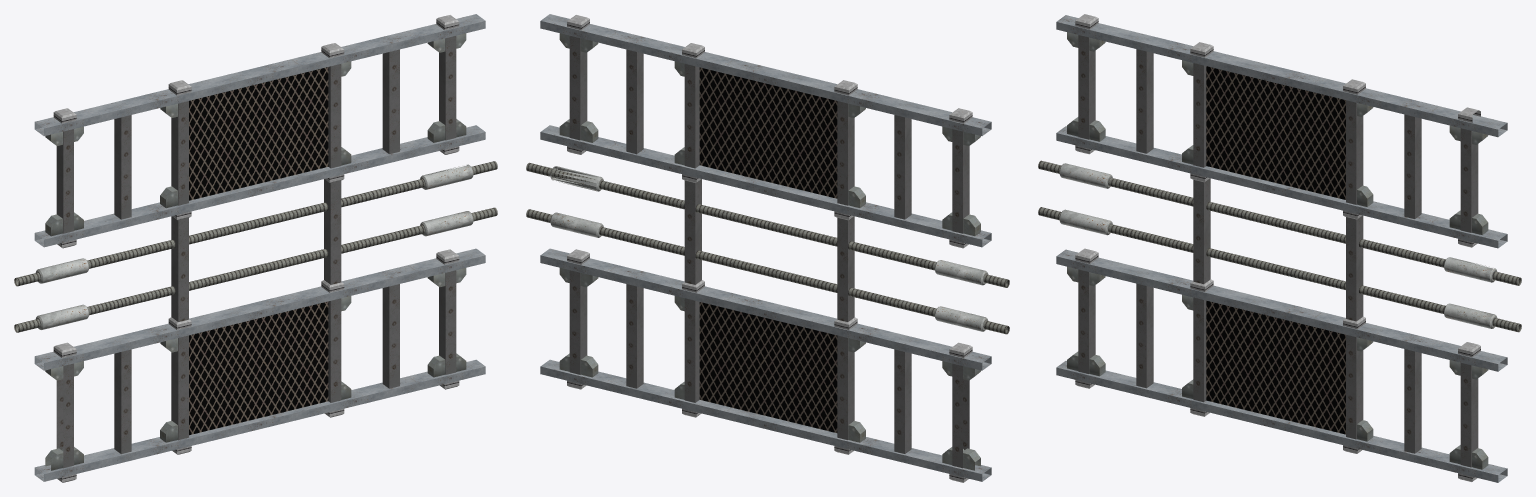
The model's file is Ob_ScafHorizMix_RC.fbx.
3 views of the same model, side by side, from view 1: azimuth 30°, elevation 25°; view 2: azimuth 150°, elevation 25°; view 3: azimuth 330°, elevation 25° (orthographic).
Parts seen in each view (by area): view 1: Ob_ScafHorizMix_RC; view 2: Ob_ScafHorizMix_RC; view 3: Ob_ScafHorizMix_RC.
Part boxes in pixels (x1,y1,x2,y2): Ob_ScafHorizMix_RC: [14, 14, 497, 482]; Ob_ScafHorizMix_RC: [526, 14, 1009, 482]; Ob_ScafHorizMix_RC: [1038, 14, 1521, 482].
Size of the model in its own units: 2262 by 1655 by 77.76.
